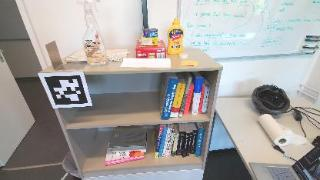book-spine: (160, 77, 179, 121), (169, 82, 186, 119), (190, 76, 204, 115), (179, 77, 192, 118), (105, 155, 144, 166), (183, 85, 194, 115), (154, 126, 163, 159), (158, 127, 167, 157), (162, 128, 171, 157), (165, 128, 174, 157), (195, 128, 204, 157), (176, 131, 185, 156), (182, 132, 190, 158), (204, 85, 211, 114), (198, 85, 205, 114), (201, 85, 208, 113), (108, 146, 146, 151), (186, 131, 193, 156), (190, 130, 197, 154), (168, 133, 175, 155), (112, 150, 147, 154), (172, 135, 177, 157), (174, 134, 179, 155)
